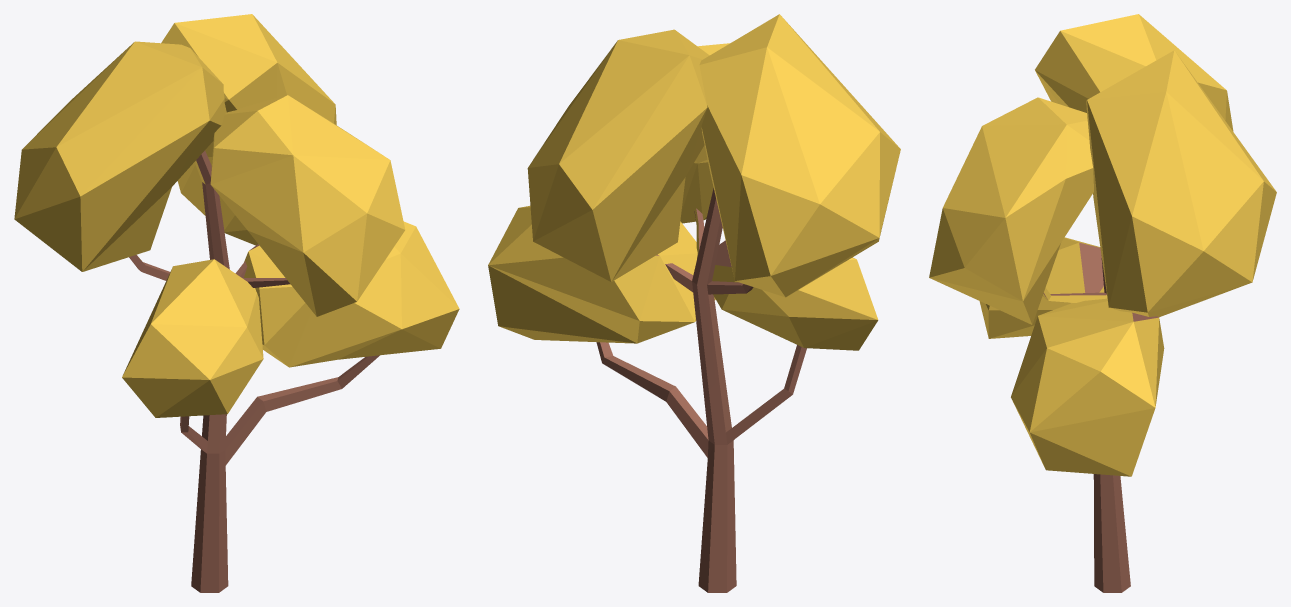
File: tree_Y.fbx
3 views of the same model, side by side, from view 1: azimuth 30°, elevation 25°; view 2: azimuth 150°, elevation 25°; view 3: azimuth 270°, elevation 25° (orthographic). The views are drawn at different scales.
Parts seen in each view (by area): view 1: Tree_Type4_03; view 2: Tree_Type4_03; view 3: Tree_Type4_03.
Part boxes in pixels (bbox=[...]): Tree_Type4_03: bbox=[14, 14, 459, 592]; Tree_Type4_03: bbox=[488, 14, 900, 592]; Tree_Type4_03: bbox=[929, 14, 1276, 592].
Bounding box in the file's own units: 500 × 683 × 397.
